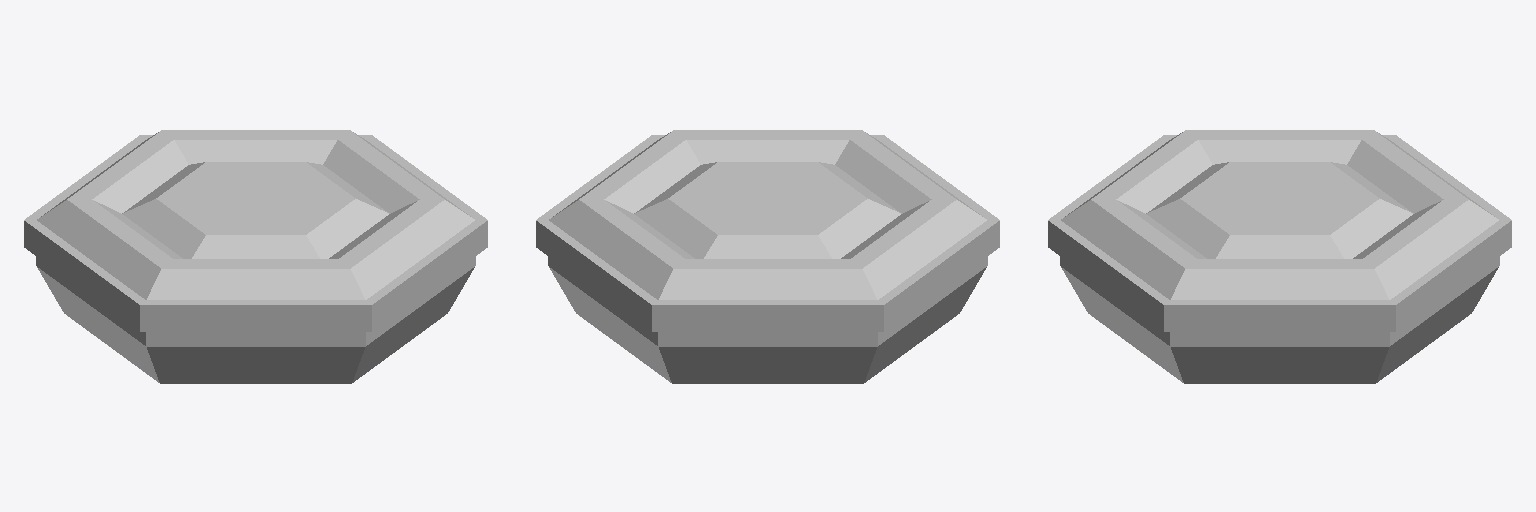
Rendered from mincemeat-pie.obj.
3 views of the same model, side by side, from view 1: azimuth 30°, elevation 25°; view 2: azimuth 150°, elevation 25°; view 3: azimuth 270°, elevation 25° (orthographic).
Parts seen in each view (by area): view 1: mincemeat-pie; view 2: mincemeat-pie; view 3: mincemeat-pie.
Part boxes in pixels (x1,y1,x2,y2): mincemeat-pie: (24,130,487,383); mincemeat-pie: (536,130,999,383); mincemeat-pie: (1048,130,1511,383).
Bounding box in the file's own units: 0.5309 × 0.1673 × 0.6131.